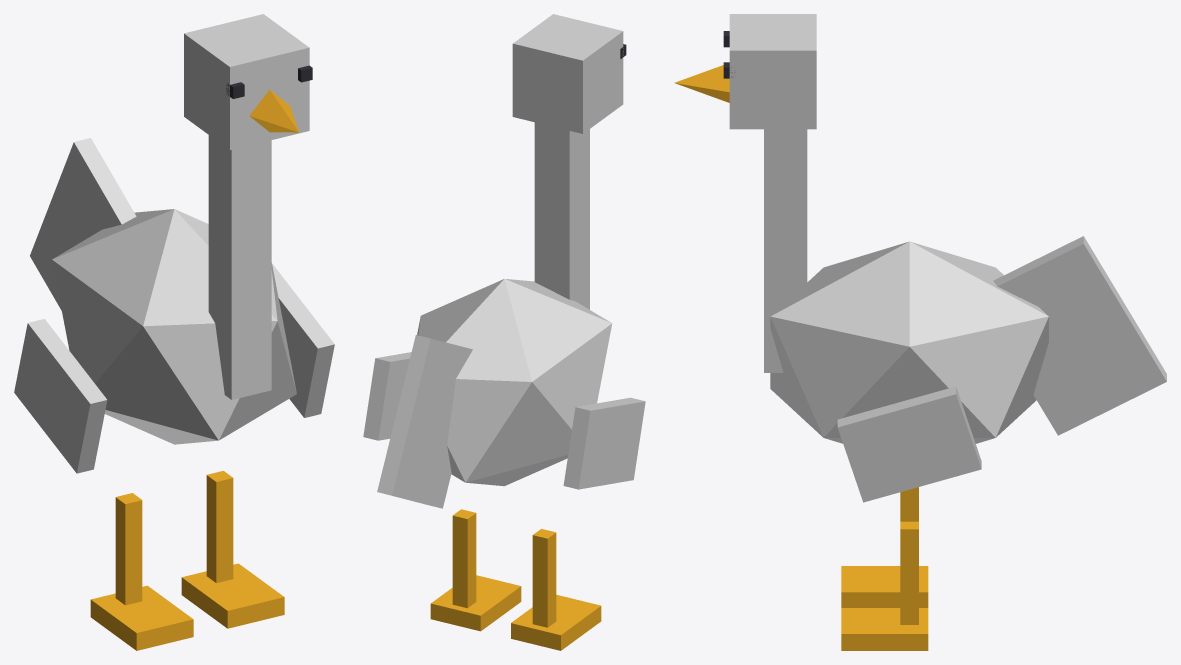
Rendered from goose.glb.
3 views of the same model, side by side, from view 1: azimuth 30°, elevation 25°; view 2: azimuth 150°, elevation 25°; view 3: azimuth 270°, elevation 25° (orthographic). The views are drawn at different scales.
Visible parts, largest first — view 1: goose; view 2: goose; view 3: goose.
Part boxes in pixels (bbox=[...]): goose: bbox=[14, 14, 334, 650]; goose: bbox=[363, 14, 645, 650]; goose: bbox=[674, 14, 1166, 650].
Size of the model in its own units: 0.516 by 1.25 by 0.9539.
